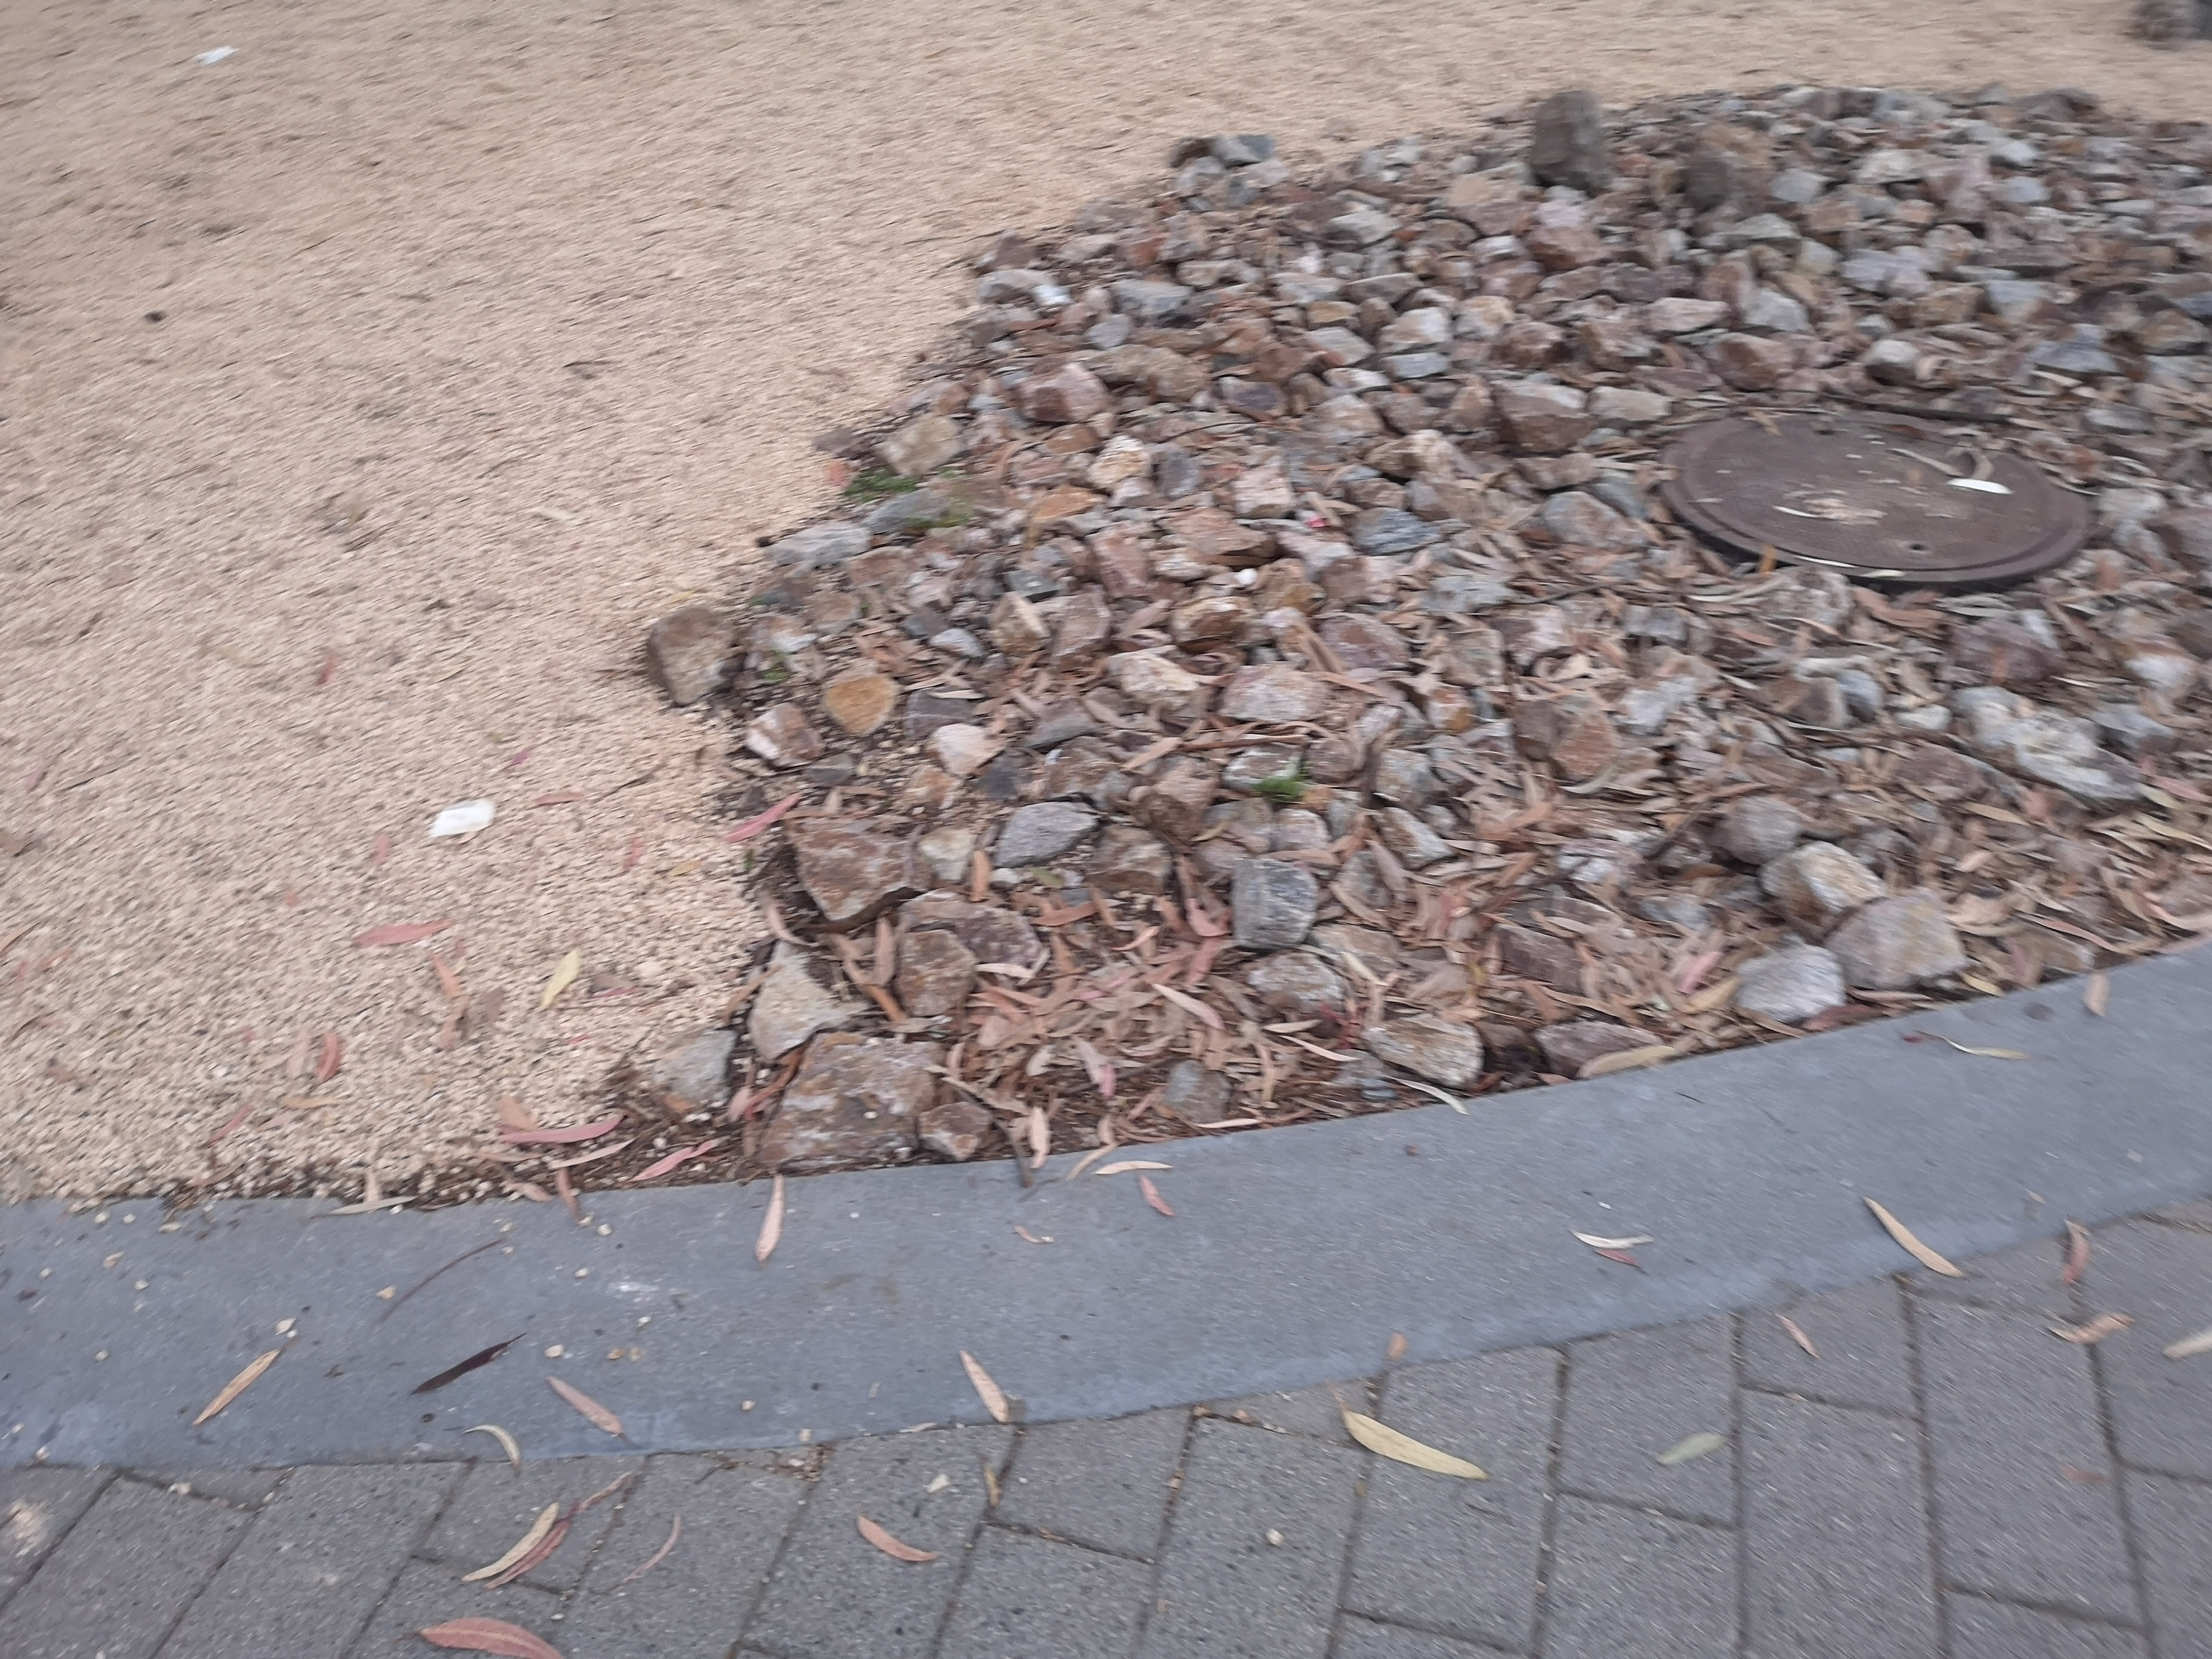Edge: (3, 1122, 1305, 1493), (1287, 939, 2202, 1281)
Obstacle: (772, 115, 2153, 1169)
